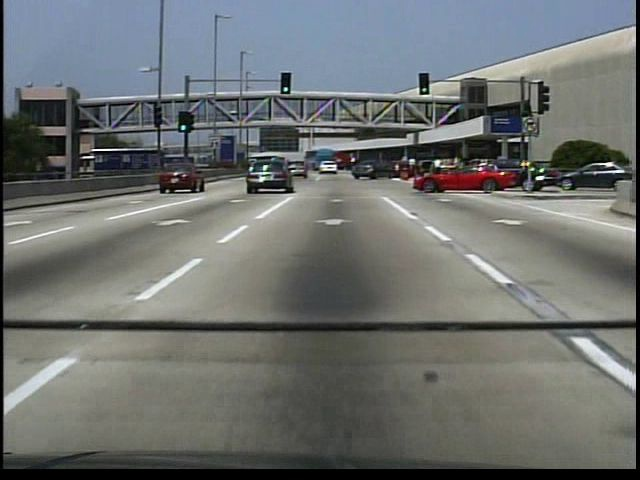person: (408, 159, 418, 182), (435, 160, 442, 177), (229, 113, 236, 127)
